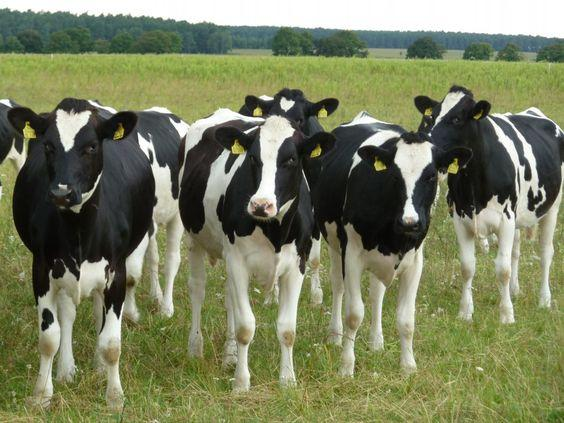cow: (27, 44, 352, 319)
